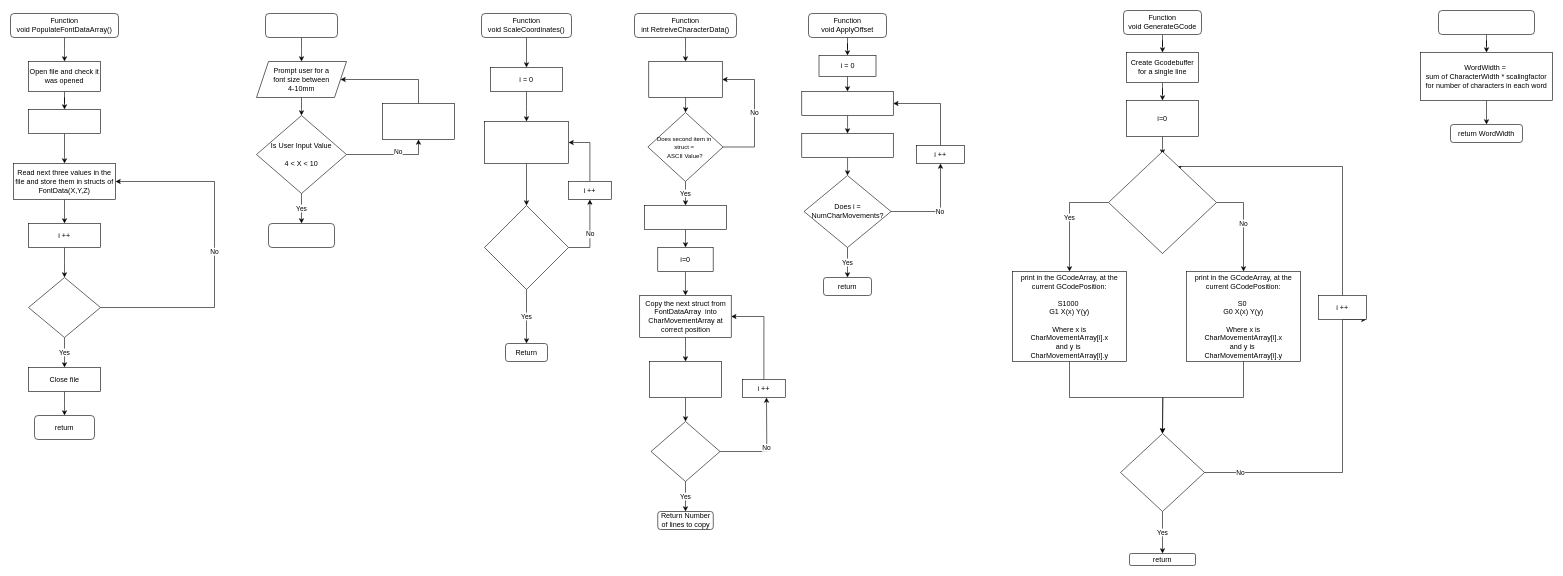
Image size: 1563x576. Some labels were removed from this diagram. Here are the shapes that lost their labels. From the top down, the centre of each, then its label:
point (301, 25): Function int GetUserInput()
point (1486, 22): Function float CalculateWordWidth
point (685, 79): Search FontDataArray for next value of 999
point (64, 121): Set i = 0
point (418, 121): Printf ( " Please enter a value in the correct range ")
point (847, 103): CharMovementArray [i].x += CurrentXPosition
point (526, 142): Multiply CharMovementArray[i].x and CharmovementArray[i].y by scale factor
point (847, 145): CharMovementArray [i].y += CurrentXPosition
point (685, 217): Number of lines to copy = third value in struct
point (1162, 202): Is the Pen Down? outputMovementArray[[i].z=1 ?
point (301, 235): Return Value
point (526, 247): Does i = Number of movements in character ?
point (64, 307): i = filesize?
point (685, 379): Increment NumCharMovements
point (685, 451): Does i = Number of lines to copy
point (1162, 472): Does i = NumCharMovements
